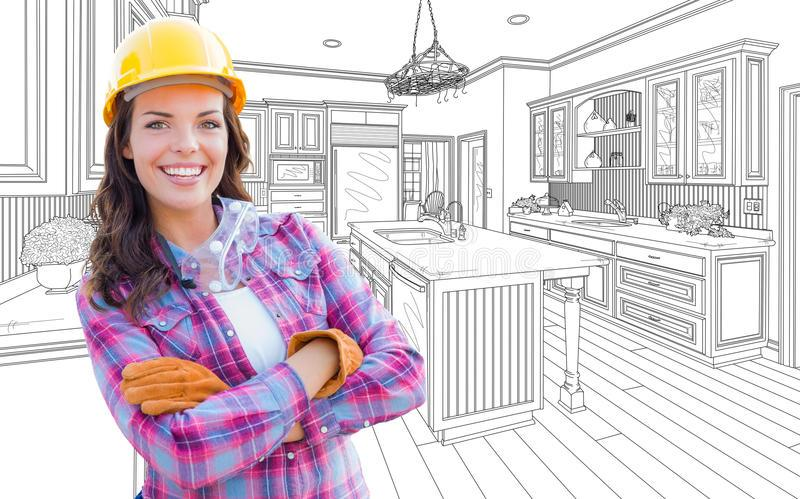helmet: (100, 17, 249, 123)
